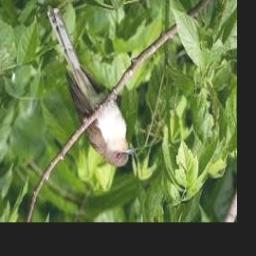Cuckoo: (46, 6, 134, 167)
